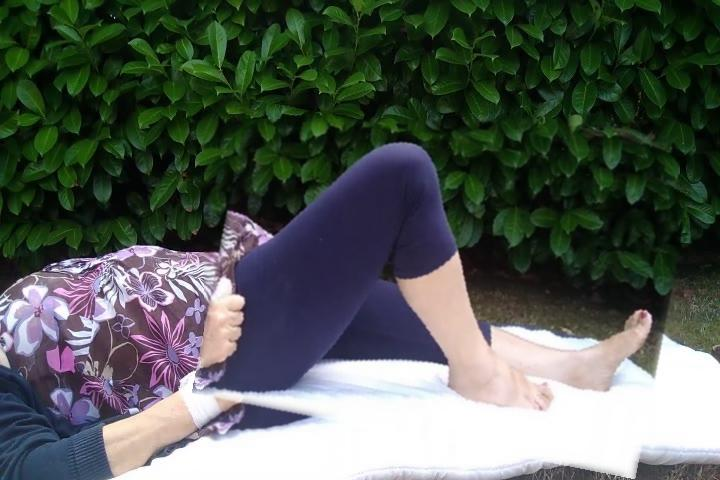lower_body: (205, 120, 681, 460)
